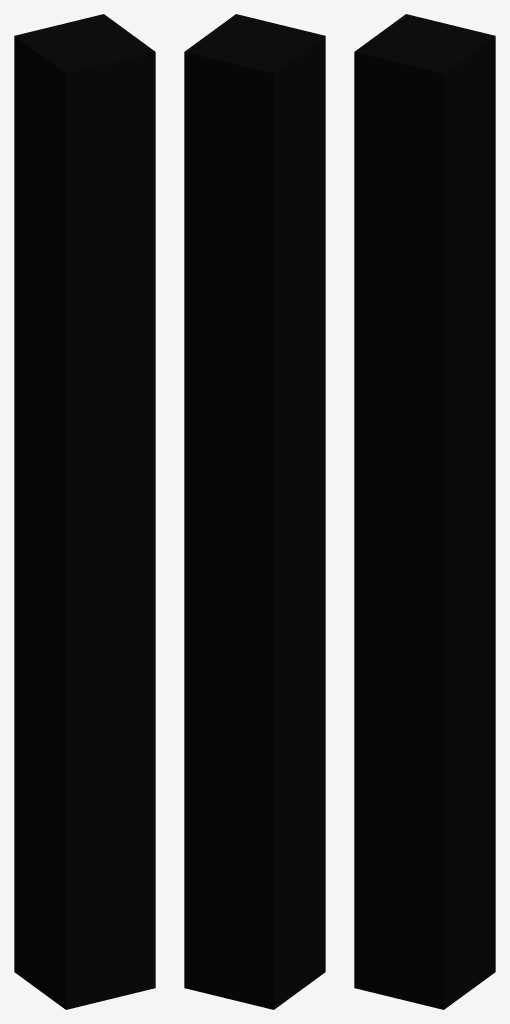
The model's file is enderman-1.obj.
3 views of the same model, side by side, from view 1: azimuth 30°, elevation 25°; view 2: azimuth 150°, elevation 25°; view 3: azimuth 330°, elevation 25° (orthographic).
Size of the model in its own units: 1 by 10 by 1.
1 material, 1 textured.
